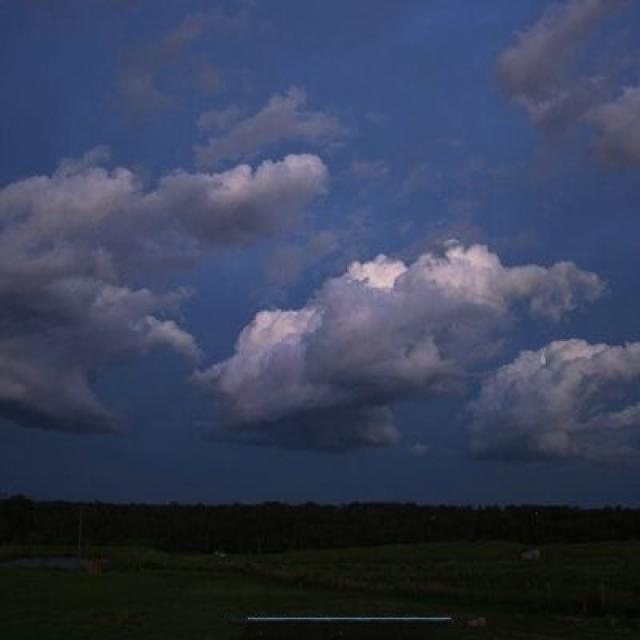As: (1, 137, 640, 445)
